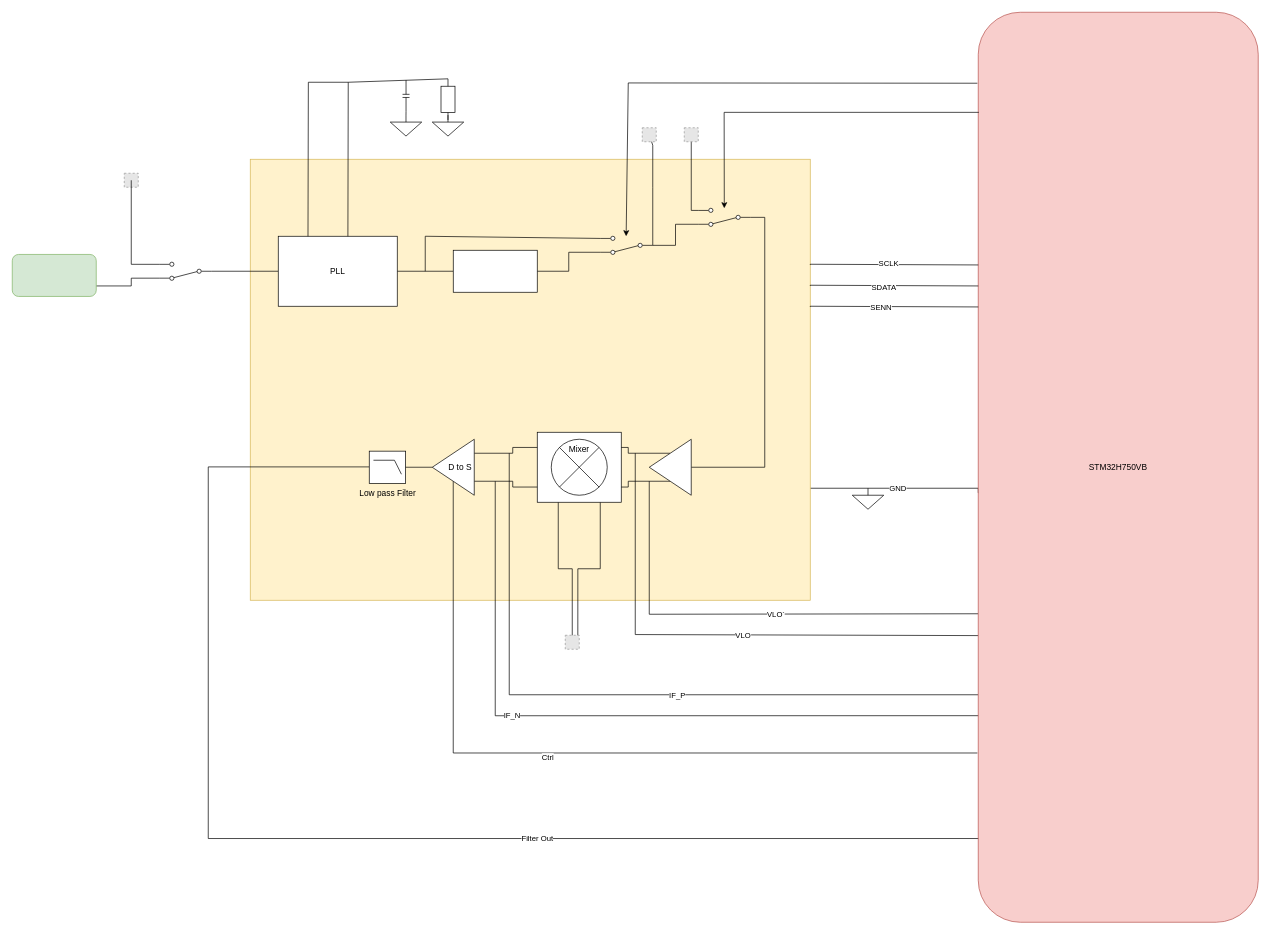
Image size: 1271x935. Some labels were removed from this diagram. Grey dashed boxes stand in for pictures. The box of each missing label's shape, as (x1, y1, x2, y2) in pixels:
Divider (N): (453, 250, 537, 292)
Oscilloscope: (12, 254, 96, 296)
S to D: (649, 439, 691, 495)
